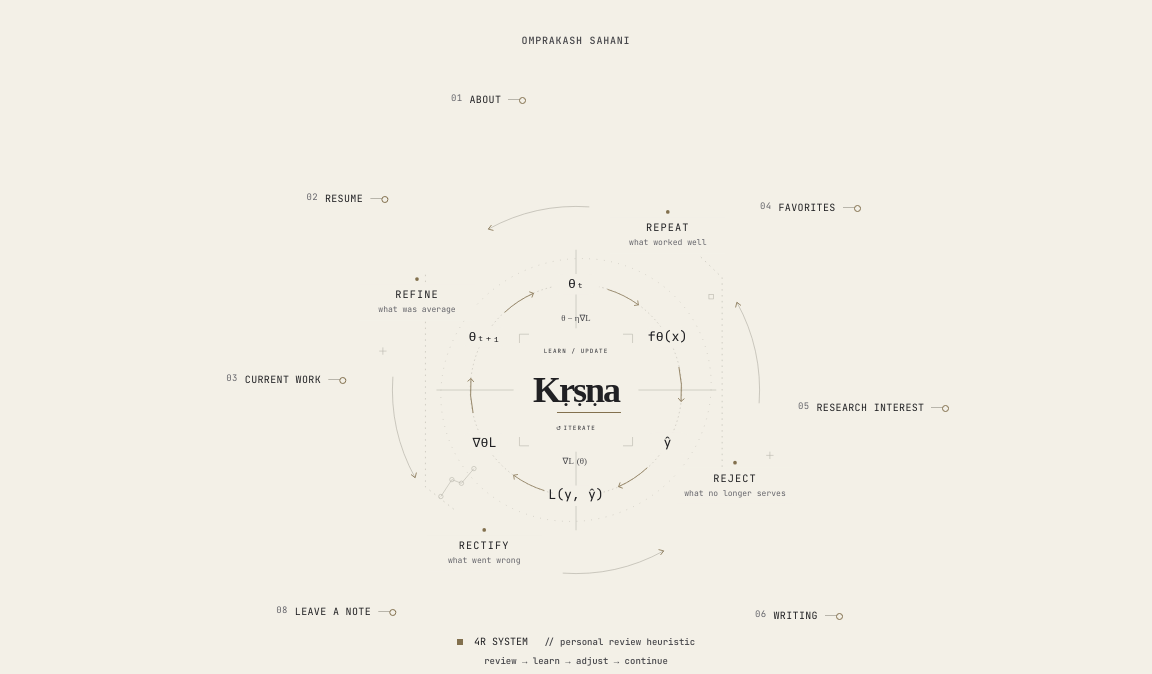
Scenario: preserves an unsent draft across close and reopen
Click the button "08 Leave a note" at (336, 611), box [276,589,396,633]
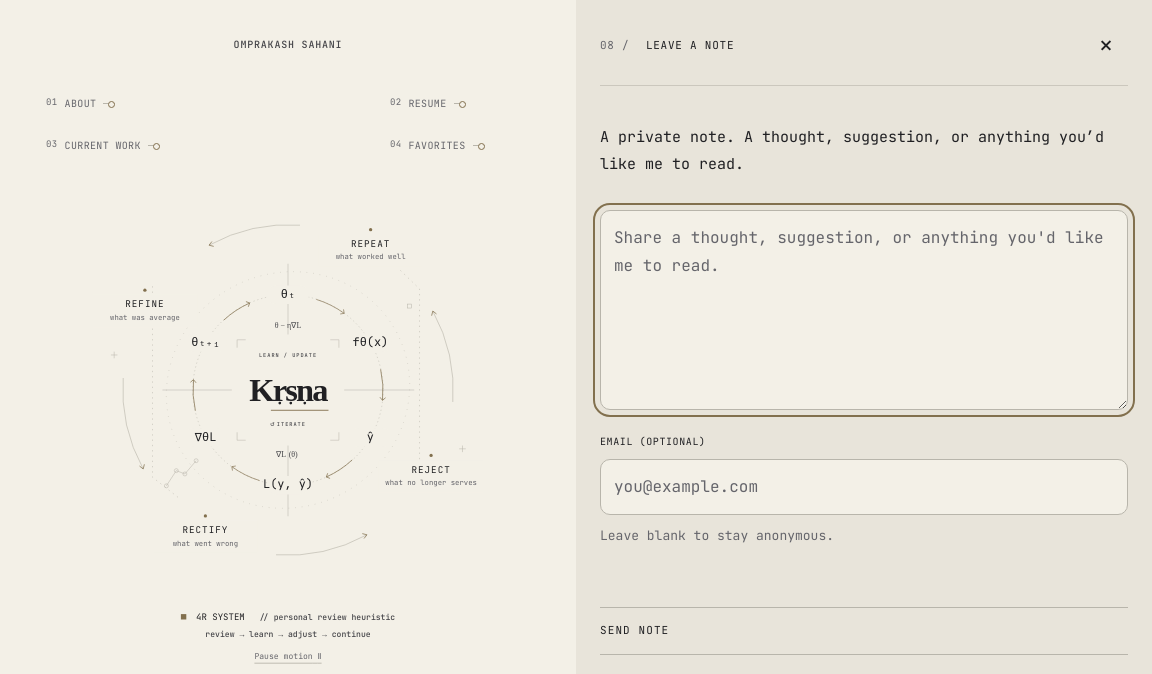
Replace the text in the text box named "Your note" with "Please keep this draft." at (864, 310), box [600,210,1128,410]
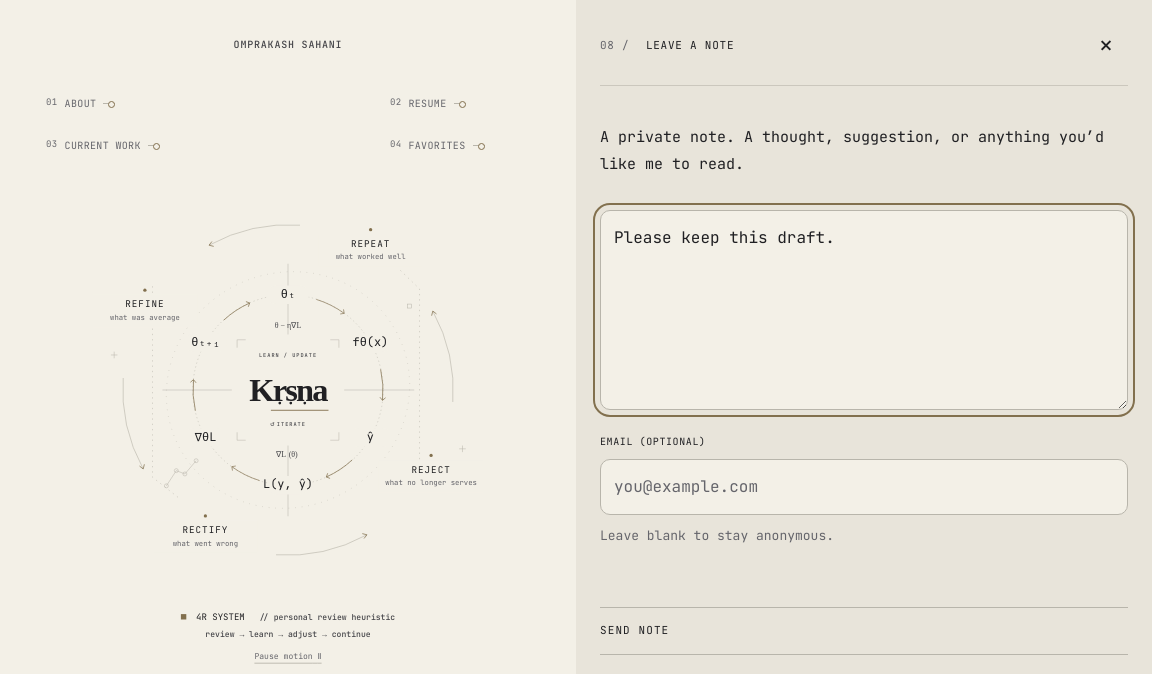
Type "visitor@example.test" into the field labelled "EMAIL (OPTIONAL)" at (864, 487), box [600,459,1128,515]
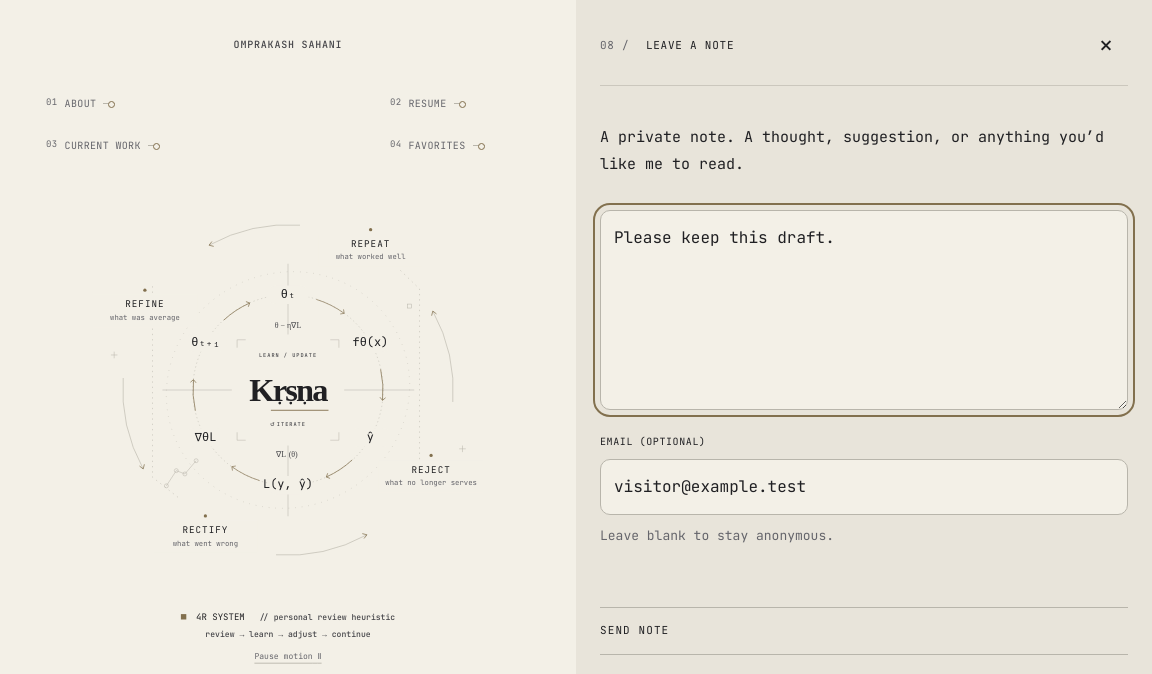
Click the button named "Close leave a note" at (1106, 45), box [1084,23,1128,67]
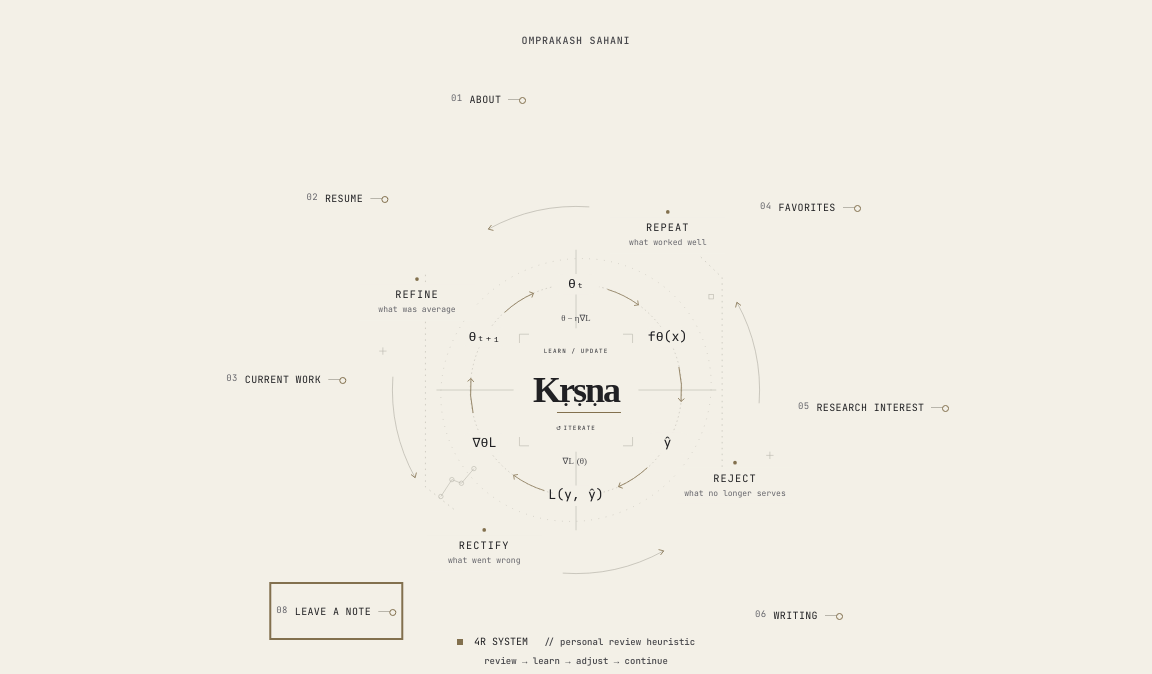
Click the button "08 Leave a note" at (336, 611), box [276,589,396,633]
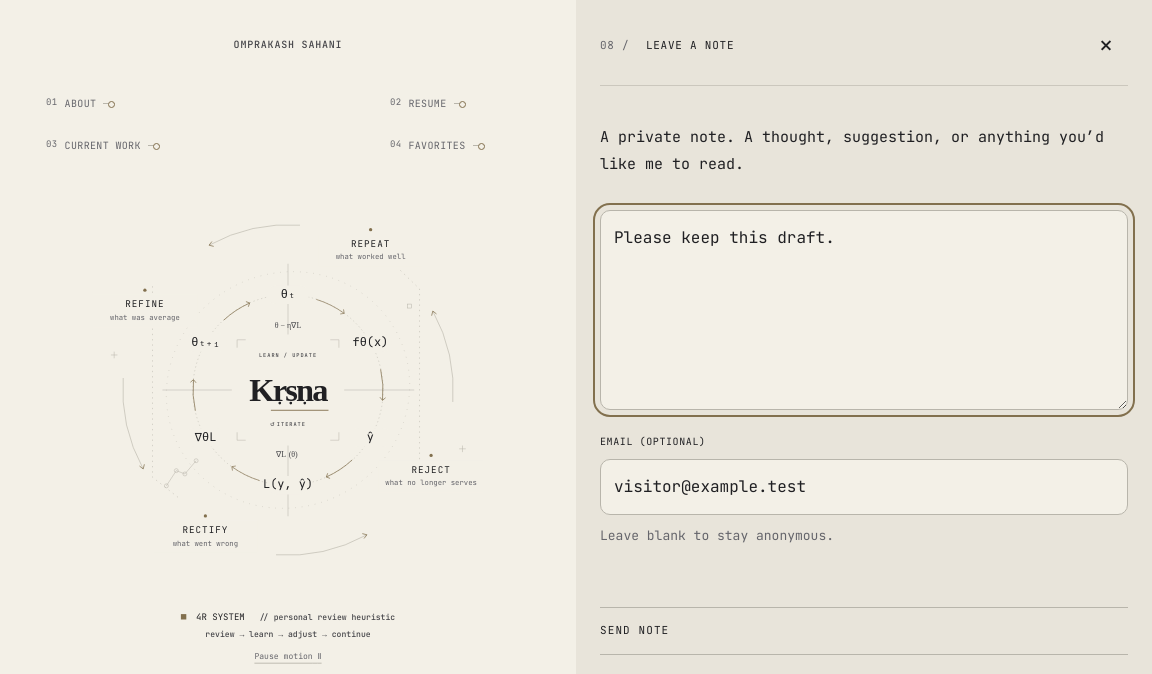
Now the button "SEND NOTE" is enabled, box [600,607,1128,655]
